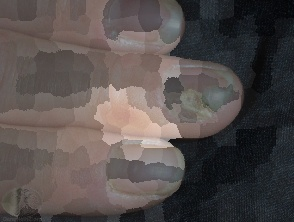Nail_psoriasis: (165, 76, 238, 131)
